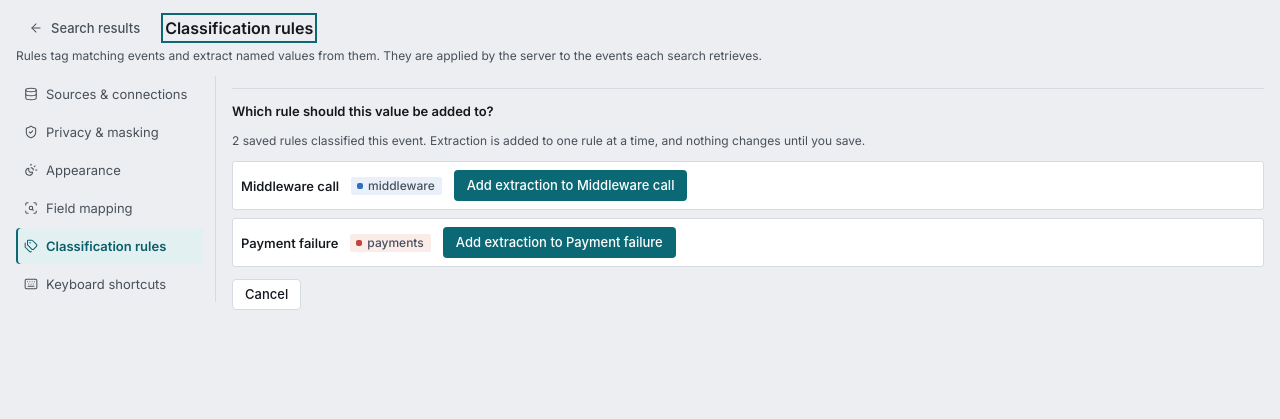
it: ClassificationRulesWorkspace - intent="addExtraction" › Cancel on the chooser returns to the rules list without touching any rule
Expected: the heading "Which rule should this value be added to?" is shown, [232,103,494,119]
Click the button "Cancel": point(267, 294) [232,279,301,310]
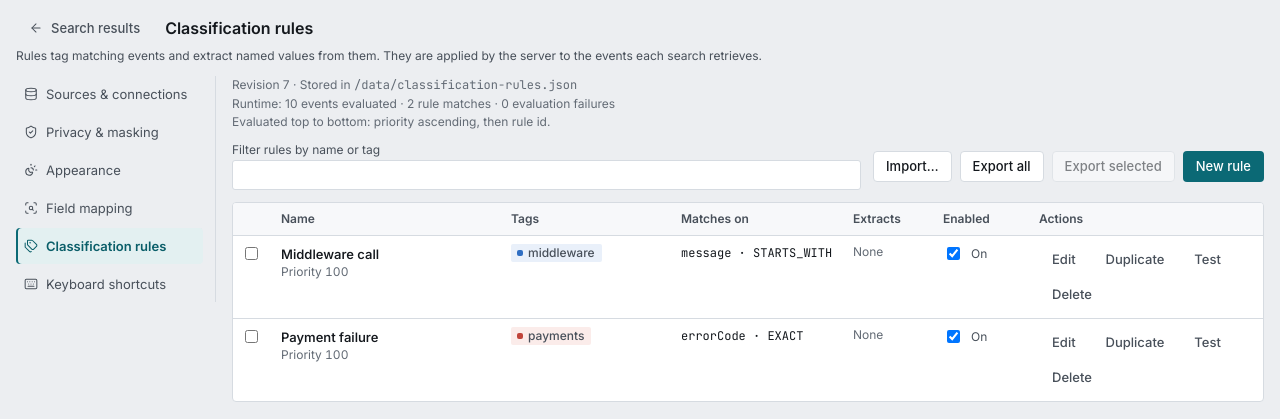
Result: the table named "Classification rules" is shown at [233,203,1263,401]
